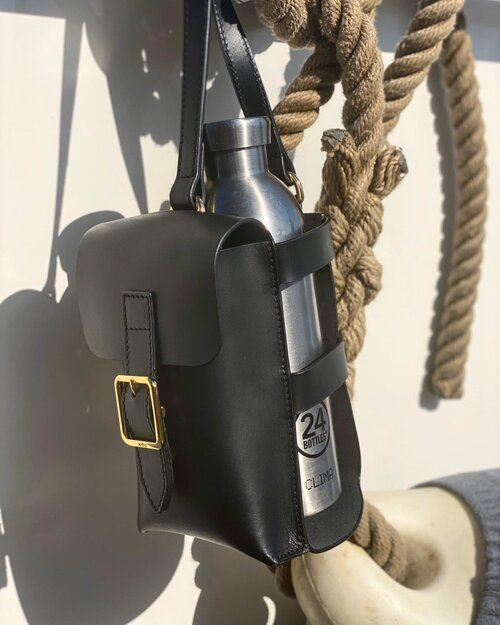cuero: (76, 2, 365, 565)
